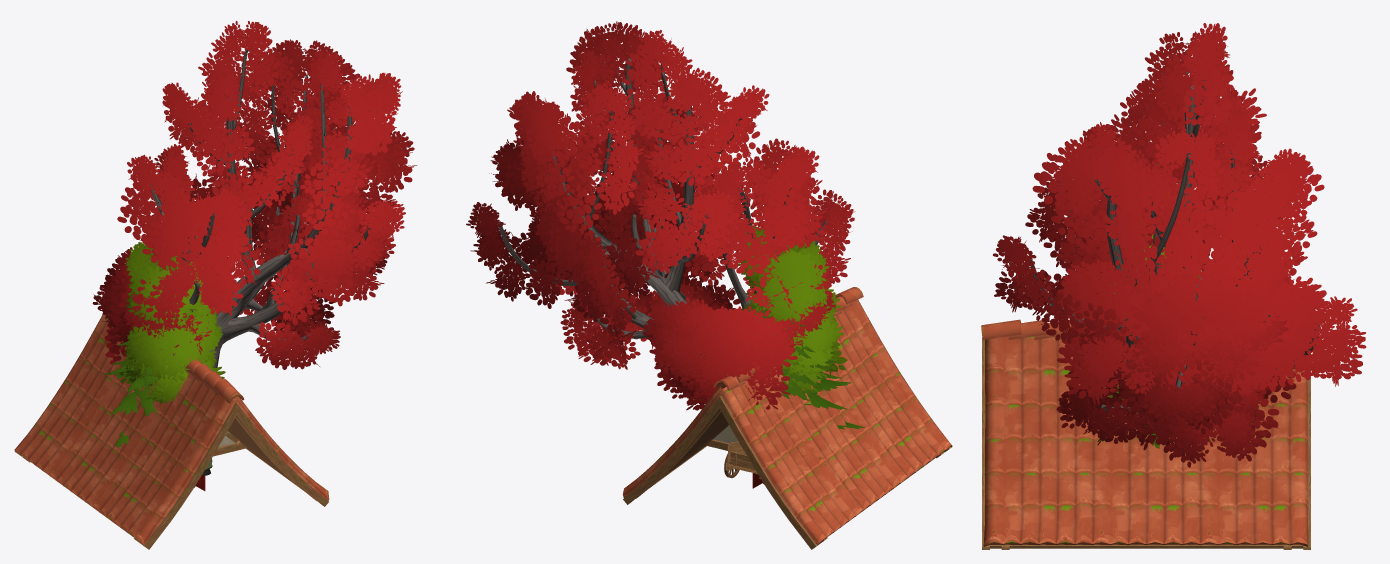
Rendered from aether_kit.glb.
3 renders of one model, left to right at view 1: azimuth 30°, elevation 25°; view 2: azimuth 150°, elevation 25°; view 3: azimuth 270°, elevation 25°, orthographic. The views are drawn at different scales.
Parts seen in each view (by area): view 1: TwistedTree_1, Roof_RoundTiles_6x8, CommonTree_3, CommonTree_1, CommonTree_4, Pine_2; view 2: TwistedTree_1, Roof_RoundTiles_6x8, CommonTree_3, CommonTree_1, CommonTree_4, Pine_2, Prop_Wagon; view 3: TwistedTree_1, Roof_RoundTiles_6x8.
Boxes of the visible parts, x1,y1,x2,y2 form: TwistedTree_1: (92,21,417,475); Roof_RoundTiles_6x8: (14,305,329,549); CommonTree_3: (125,250,223,382); CommonTree_1: (119,308,225,403); CommonTree_4: (128,236,210,315); Pine_2: (87,315,215,447); TwistedTree_1: (466,21,855,411); Roof_RoundTiles_6x8: (622,287,952,549); CommonTree_3: (745,229,841,377); CommonTree_1: (741,290,847,393); CommonTree_4: (738,226,829,332); Pine_2: (748,305,865,458); Prop_Wagon: (724,441,760,478); TwistedTree_1: (993,23,1366,467); Roof_RoundTiles_6x8: (981,319,1310,549).
Bounding box in the file's own units: 15.47 × 18.07 × 11.58.
Materials: 20 (19 with a texture image).
